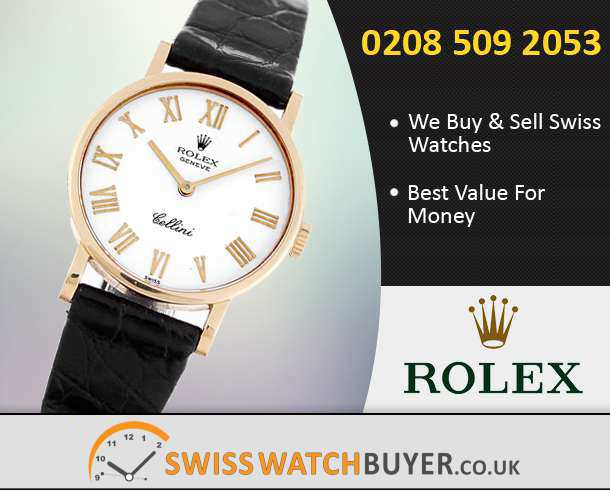clock: (81, 87, 293, 292)
